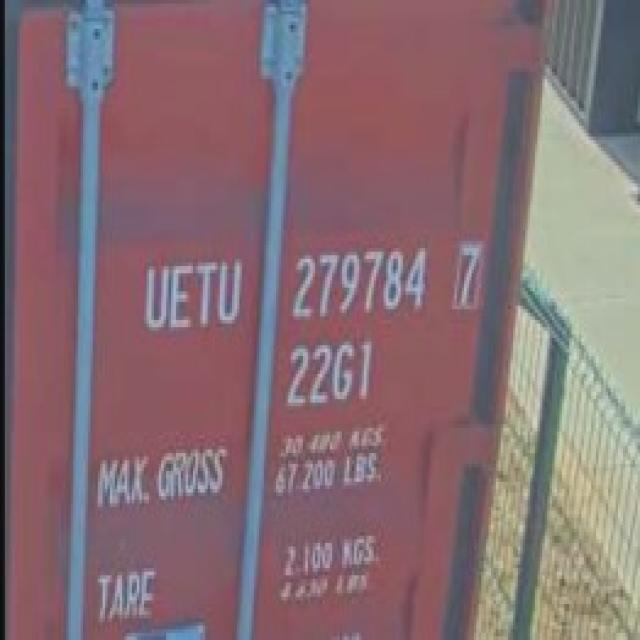dv: (448, 237, 486, 315)
owner: (136, 250, 250, 340)
serial: (287, 243, 435, 320)
size: (276, 334, 382, 412)
